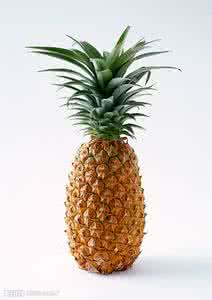pineapple: (38, 35, 157, 274)
